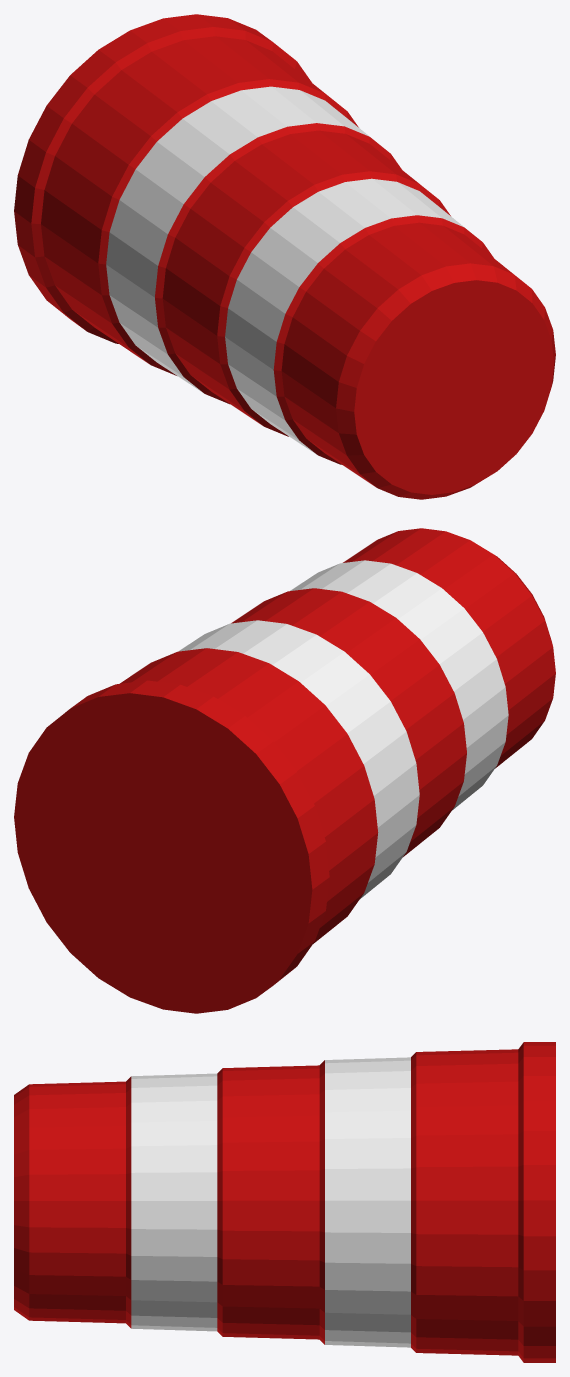
The model's file is barrel.obj.
3 renders of one model, top to bottom at view 1: azimuth 30°, elevation 25°; view 2: azimuth 150°, elevation 25°; view 3: azimuth 270°, elevation 25°, orthographic. The views are drawn at different scales.
Visible parts, largest first — view 1: barrel_red; view 2: barrel_red; view 3: barrel_red.
Part boxes in pixels (x1,y1,x2,y2): barrel_red: (14,14,555,499); barrel_red: (14,528,555,1013); barrel_red: (14,1042,555,1362).
Bounding box in the file's own units: 0.5969 × 0.5969 × 1.01.
